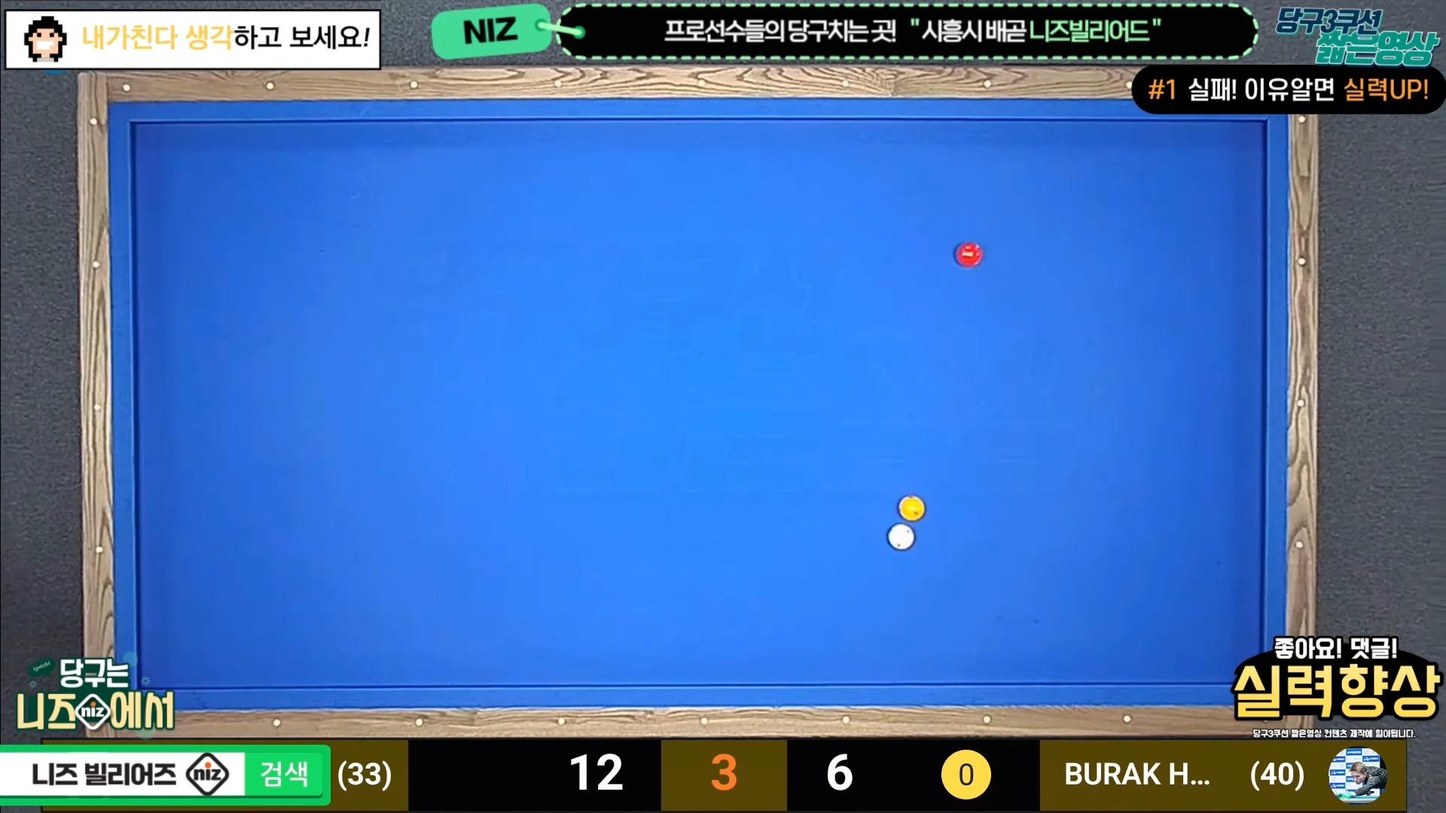billiard-ball-Red: (955, 240, 986, 269)
billiard-ball-Yellow: (898, 495, 925, 522)
billiard-ball-white: (886, 522, 914, 551)
